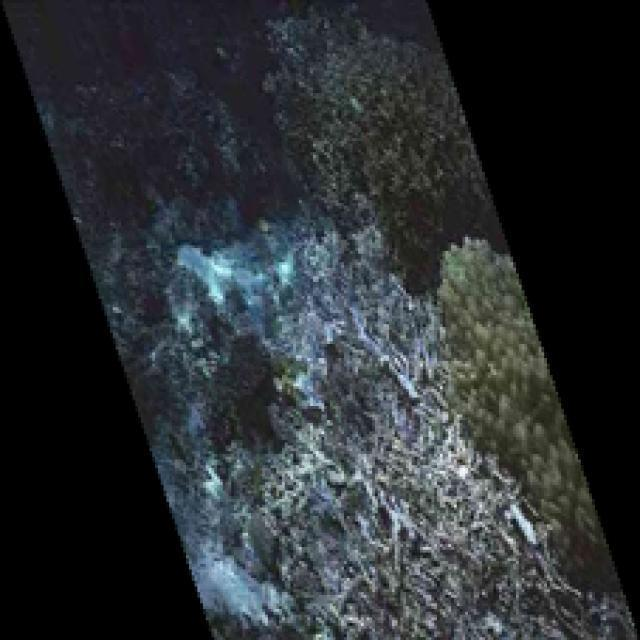Dead Coral: (221, 371, 506, 640)
